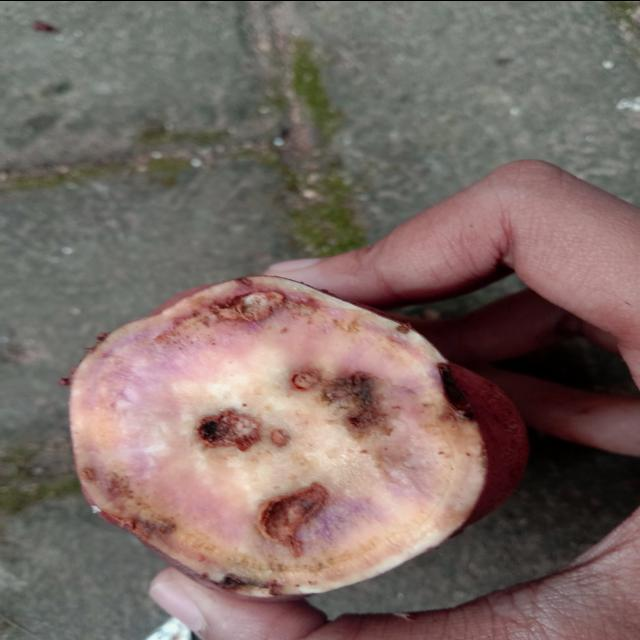Sick Sweet Potato_Tuber Rot: (70, 275, 488, 595)
